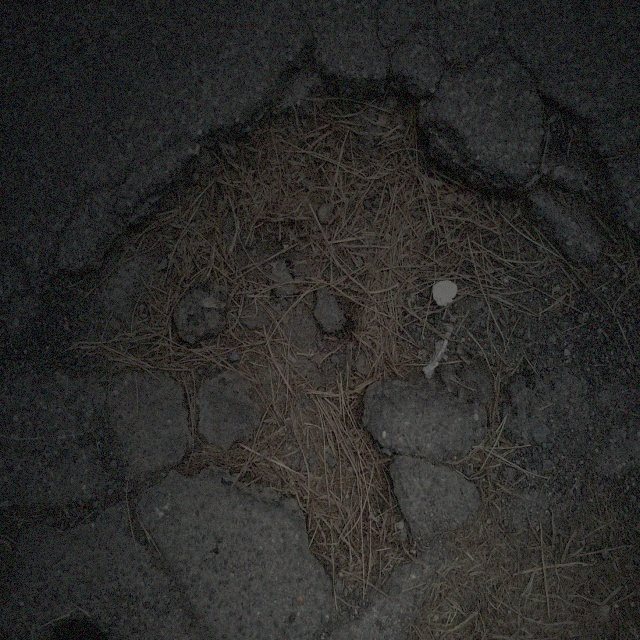pothole: (77, 51, 546, 528)
